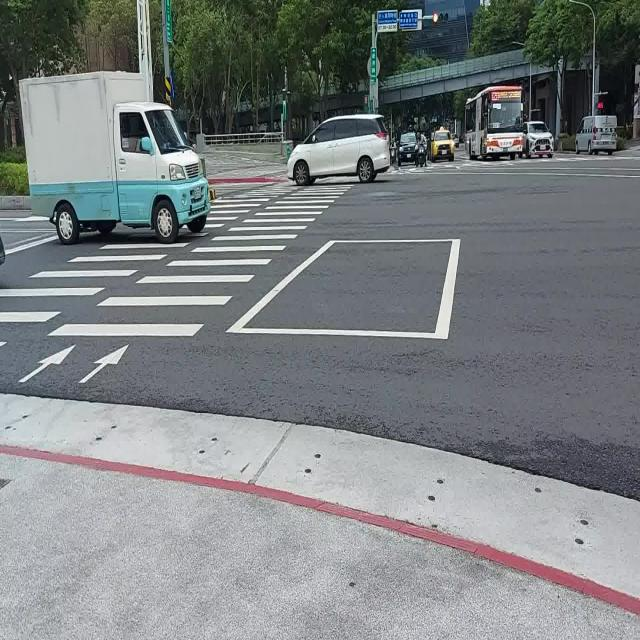bus: (465, 84, 524, 160)
car: (288, 113, 390, 186), (575, 116, 618, 153), (522, 120, 554, 158), (430, 129, 454, 162), (398, 131, 418, 164)
crosswalk: (0, 180, 300, 350), (47, 182, 356, 336)
motocycle: (416, 140, 426, 166), (389, 142, 396, 164)
trunk: (20, 60, 210, 244)
